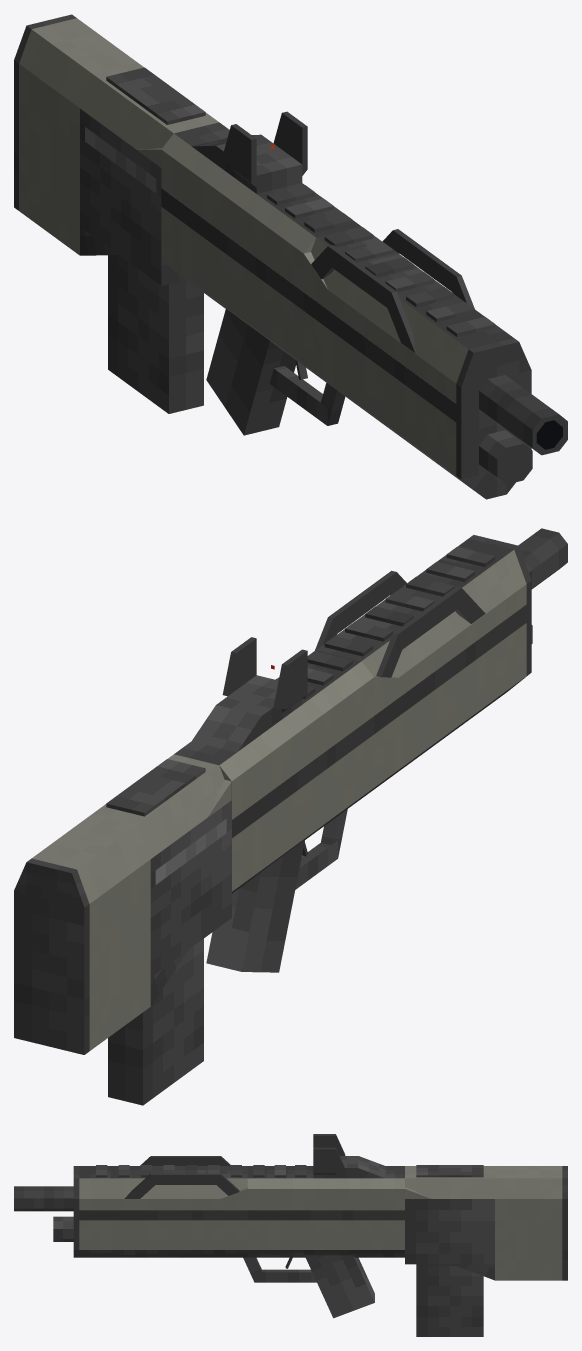
Rendered from scout_rifle.gltf.
3 views of the same model, one above another, from view 1: azimuth 30°, elevation 25°; view 2: azimuth 150°, elevation 25°; view 3: azimuth 270°, elevation 25° (orthographic). The views are drawn at different scales.
Parts seen in each view (by area): view 1: body (×14), body top middle (×9), body top left (×2), handle, barrel tip left (×5), trigger guard bottom, trigger guard front; view 2: body (×11), body top middle (×10), body top left (×2), handle, trigger guard bottom, barrel tip left; view 3: body (×15), body top middle (×9), body top left (×2), handle, barrel tip left (×3), trigger guard bottom.
Boxes of the visible parts, bbox=[...] form: body (×14): bbox=[14, 60, 531, 479]; body top middle (×9): bbox=[19, 18, 519, 388]; body top left (×2): bbox=[161, 133, 468, 383]; handle: bbox=[206, 309, 296, 435]; barrel tip left (×5): bbox=[479, 375, 567, 484]; trigger guard bottom: bbox=[269, 366, 327, 425]; trigger guard front: bbox=[321, 383, 345, 425]; body (×11): bbox=[14, 570, 526, 1105]; body top middle (×10): bbox=[26, 538, 513, 904]; body top left (×2): bbox=[219, 550, 526, 781]; handle: bbox=[206, 840, 304, 972]; trigger guard bottom: bbox=[295, 840, 337, 889]; barrel tip left: bbox=[529, 544, 567, 588]; body (×15): bbox=[73, 1156, 567, 1336]; body top middle (×9): bbox=[79, 1134, 562, 1198]; body top left (×2): bbox=[79, 1178, 404, 1198]; handle: bbox=[304, 1255, 374, 1318]; barrel tip left (×3): bbox=[14, 1186, 73, 1208]; trigger guard bottom: bbox=[254, 1269, 316, 1282].
Bounding box in the file's own units: 0.1252 × 0.5846 × 1.54.
5 materials, 5 textured.
